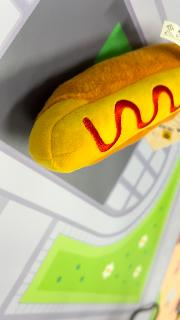hotdog: (28, 42, 180, 174)
